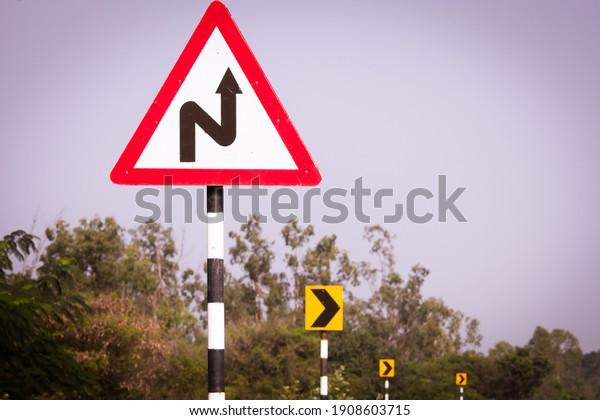Right Reverse Bend: (113, 8, 312, 200)
